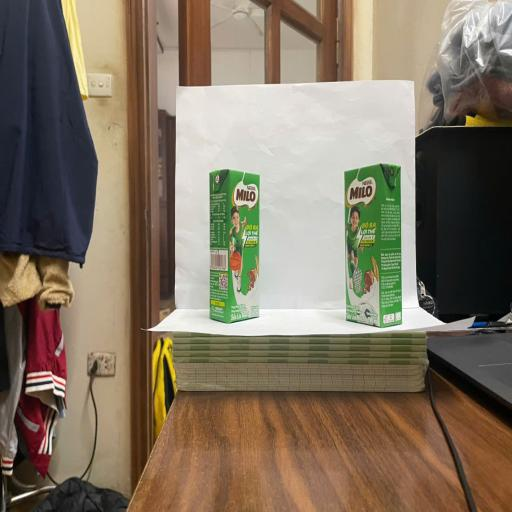milo: (345, 165, 400, 329), (209, 167, 260, 325)
